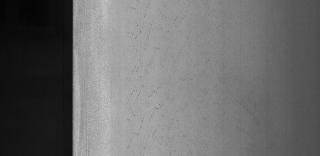silk spot: (124, 2, 196, 148)
